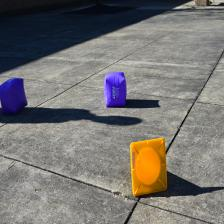cone: (130, 137, 168, 197)
cube: (0, 78, 28, 114), (104, 72, 127, 108)
